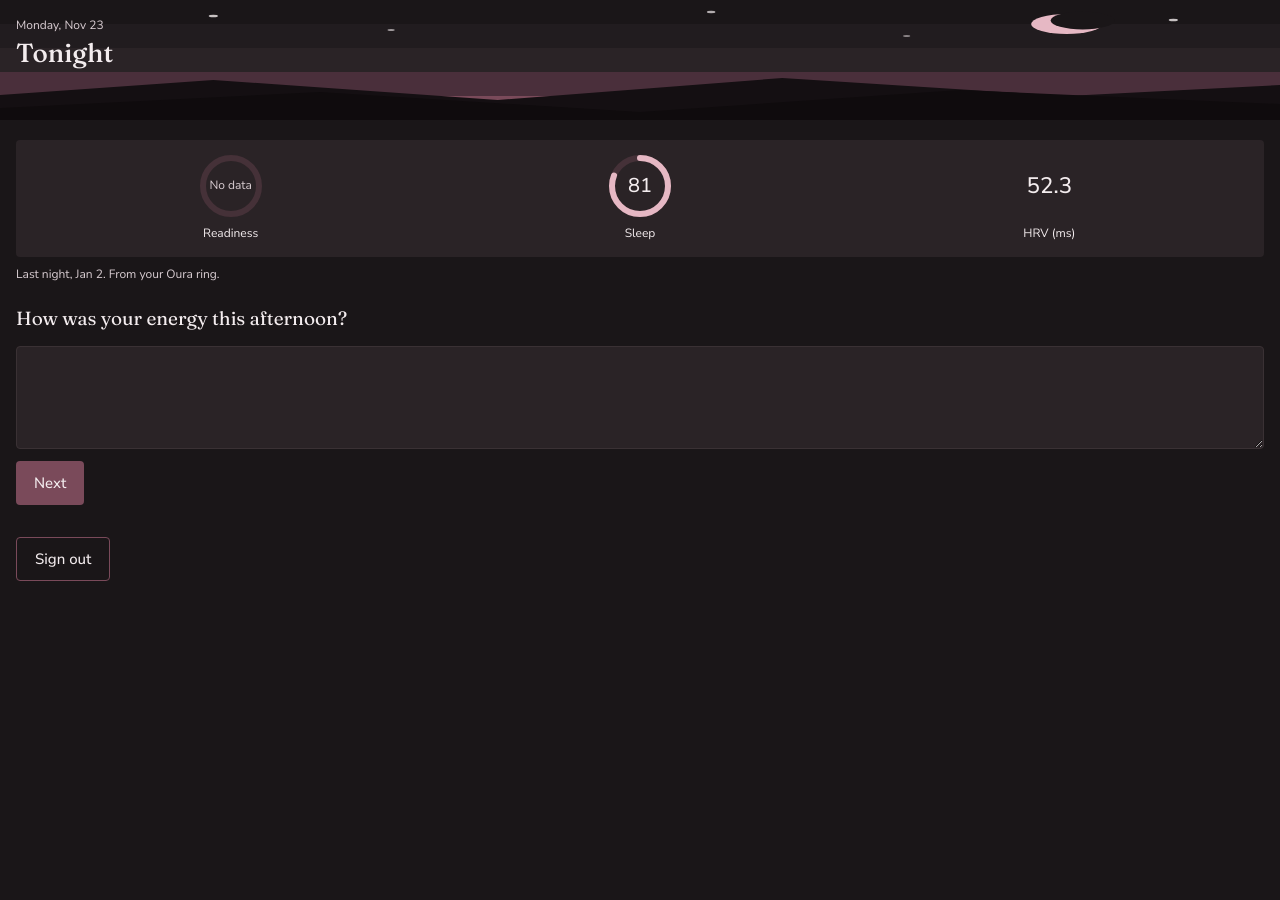
Scenario: Tonight › questions › after the last question, shows tags and Back returns to it
Type "Flat until a 3pm espresso" into the text box labelled "How was your energy this afternoon?" at (640, 397), box x1=16 y1=346 x2=1264 y2=449
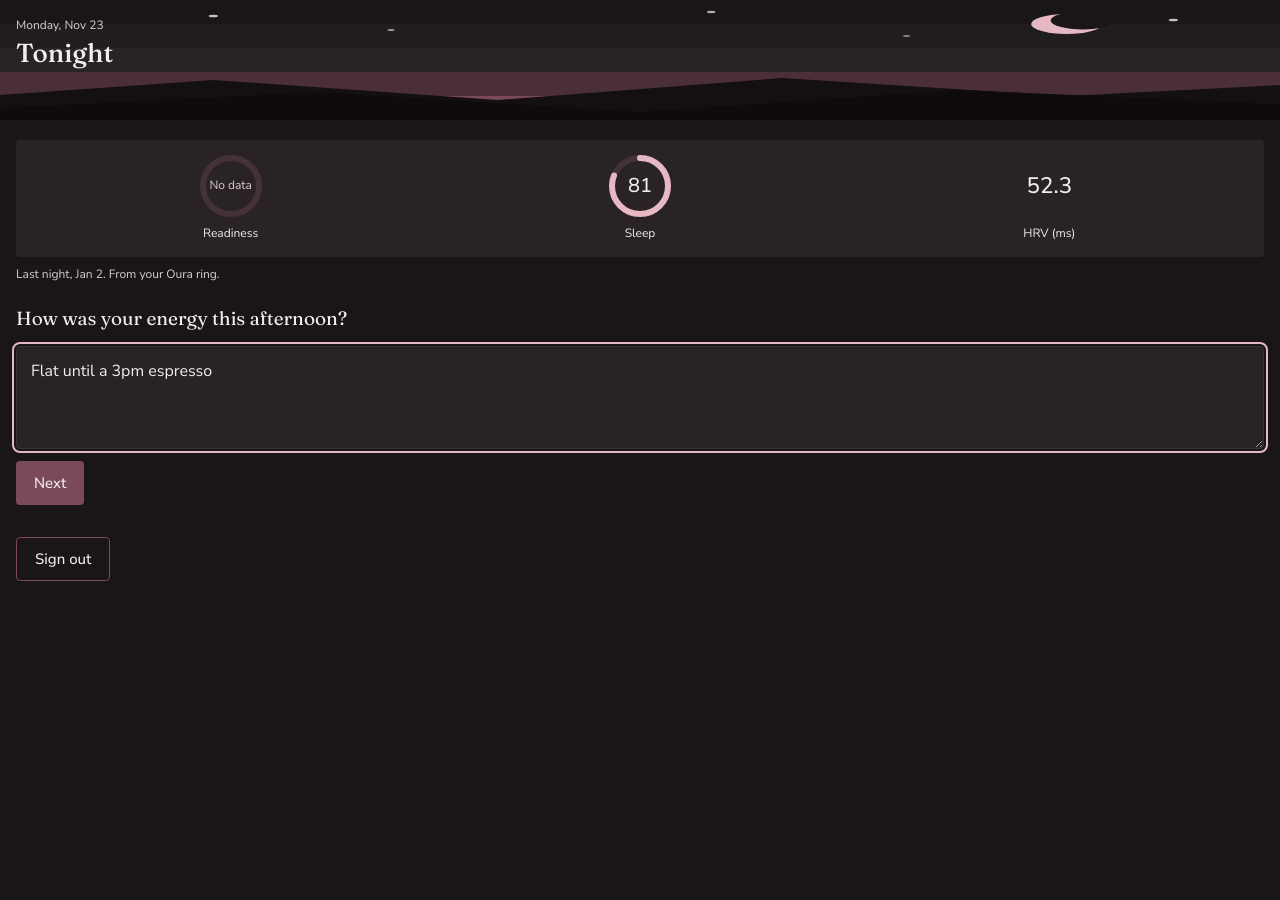
Click the button "Next" at (50, 483), box x1=16 y1=461 x2=84 y2=505
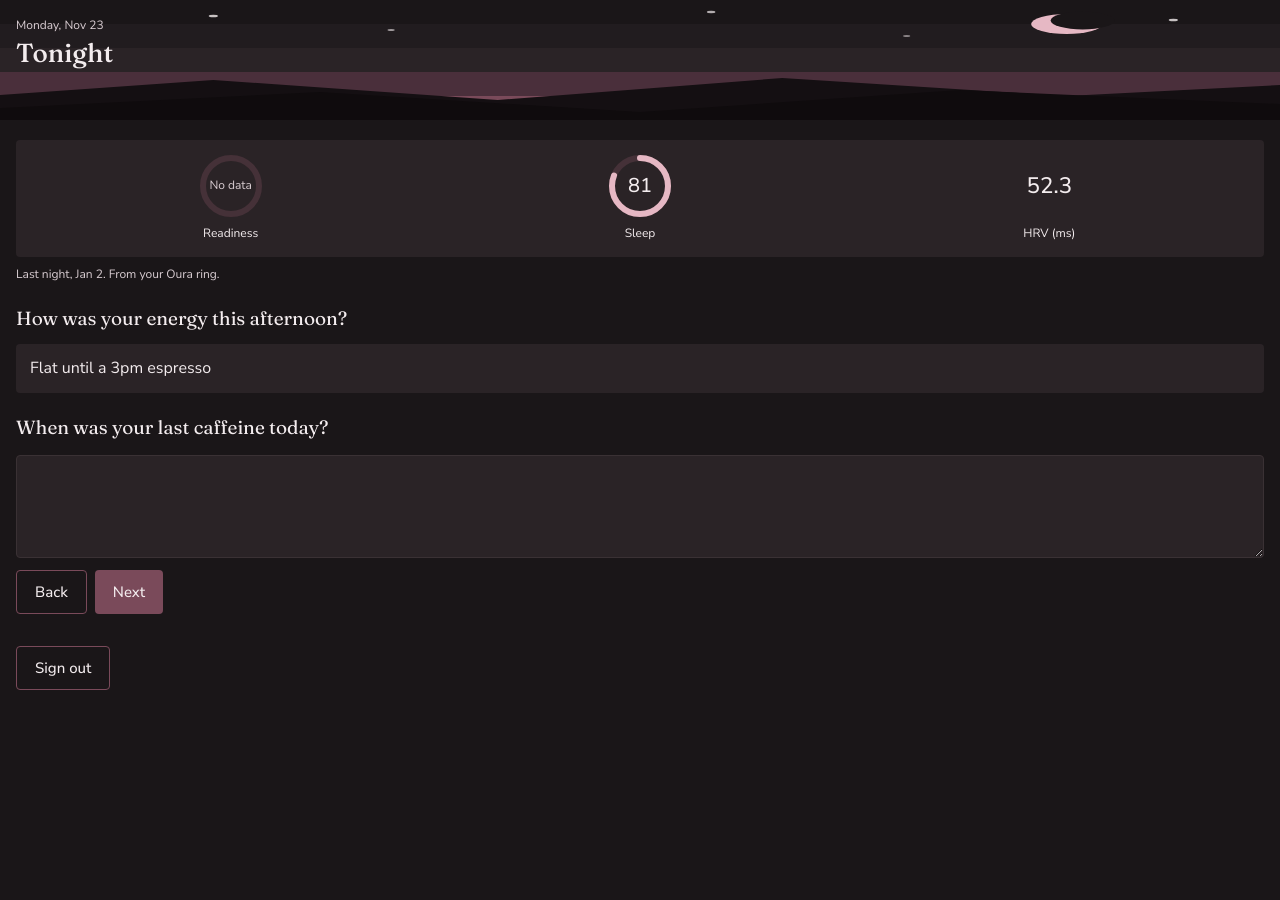
Click the button "Next" at (129, 592), box x1=95 y1=570 x2=163 y2=614
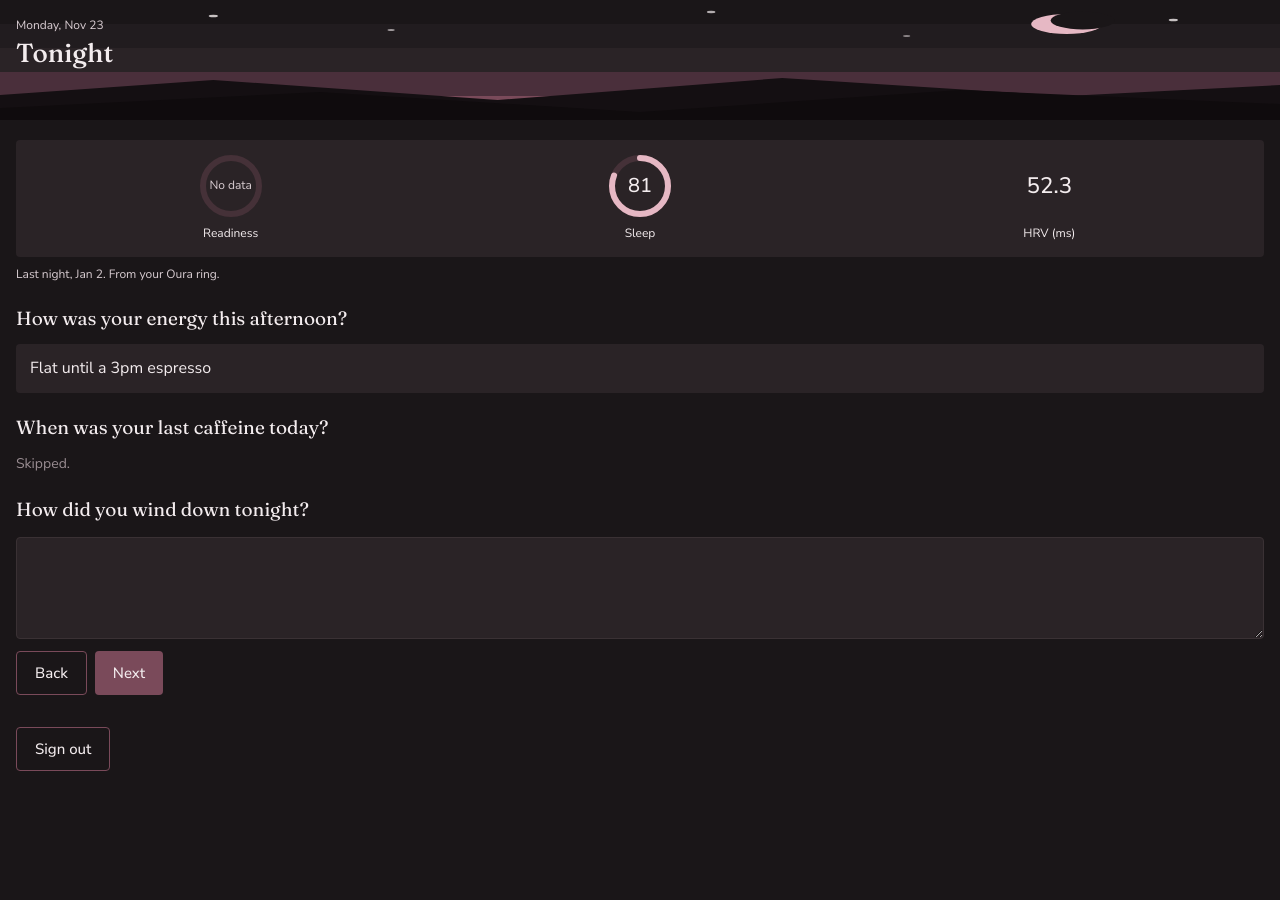
Type "Reading" into the text box labelled "How did you wind down tonight?" at (640, 588), box x1=16 y1=537 x2=1264 y2=640
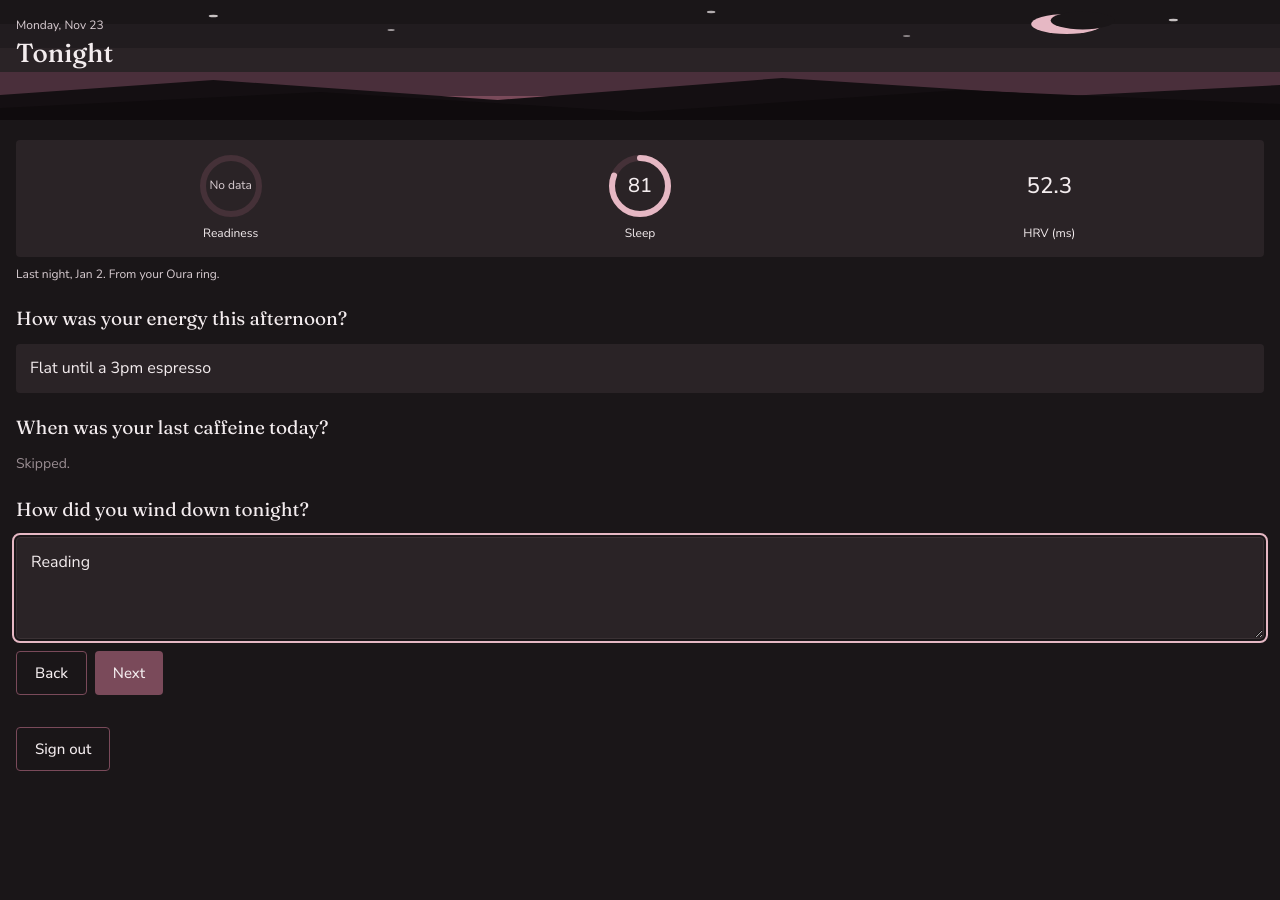
Click the button "Next" at (129, 674), box x1=95 y1=652 x2=163 y2=696
(page scrolled)
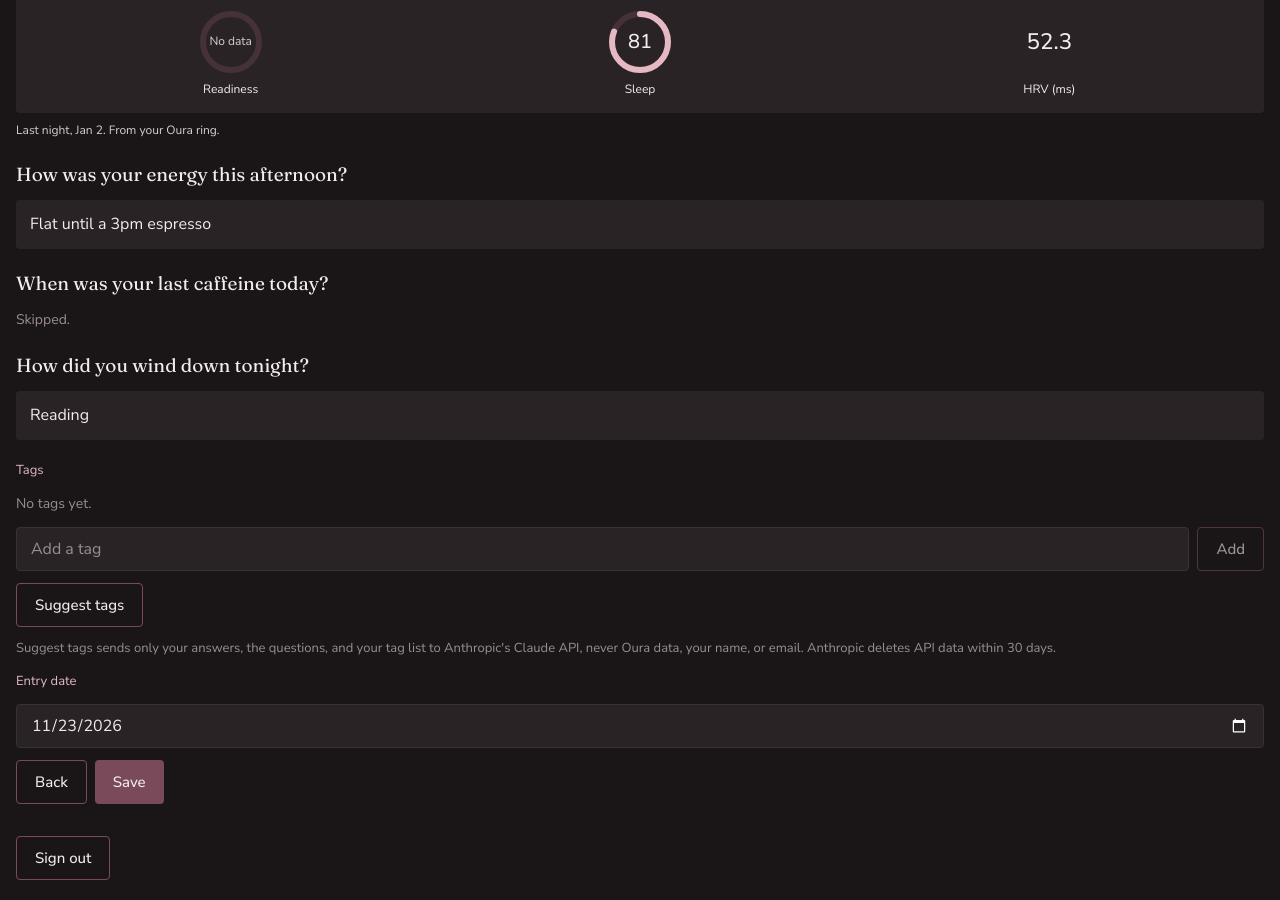
Check: the text "When was your last caffeine today?" is shown, box x1=16 y1=271 x2=328 y2=295
Check: the text "How did you wind down tonight?" is shown, box x1=16 y1=353 x2=309 y2=377
Check: the element "Tags" is shown, box x1=16 y1=460 x2=1264 y2=804
Click the button "Back" at (51, 782), box x1=16 y1=760 x2=87 y2=804
(page scrolled)
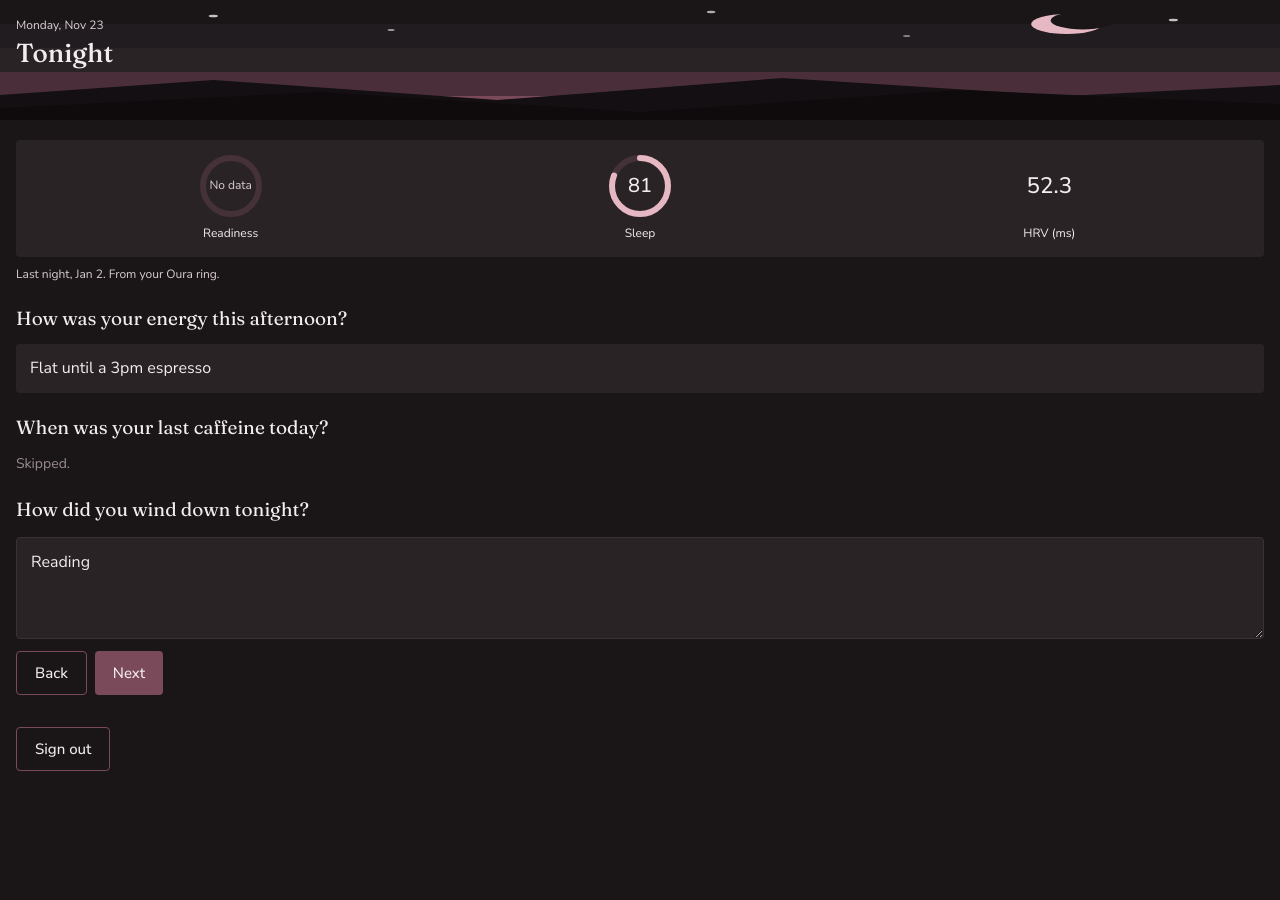
Check: the text box labelled "How did you wind down tonight?" holds "Reading", box x1=16 y1=537 x2=1264 y2=640
